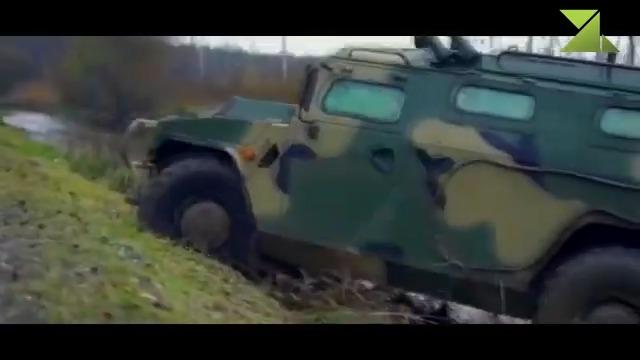MIL_HMMWV: (125, 35, 640, 325)
